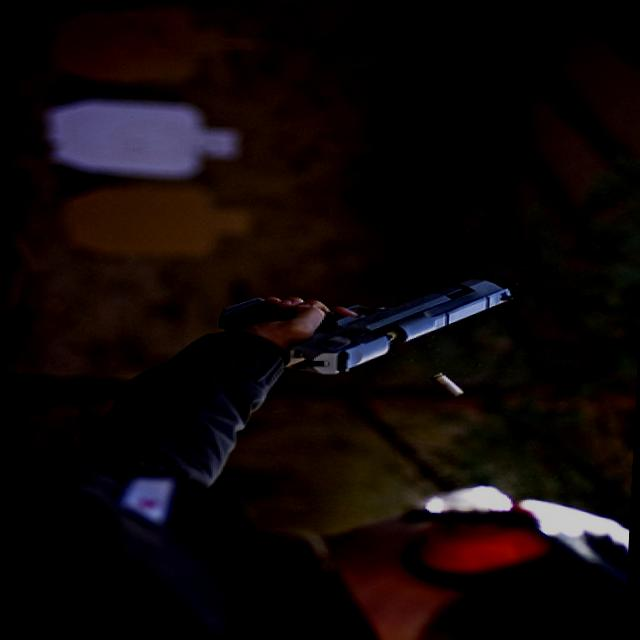handgun: (213, 262, 538, 383)
